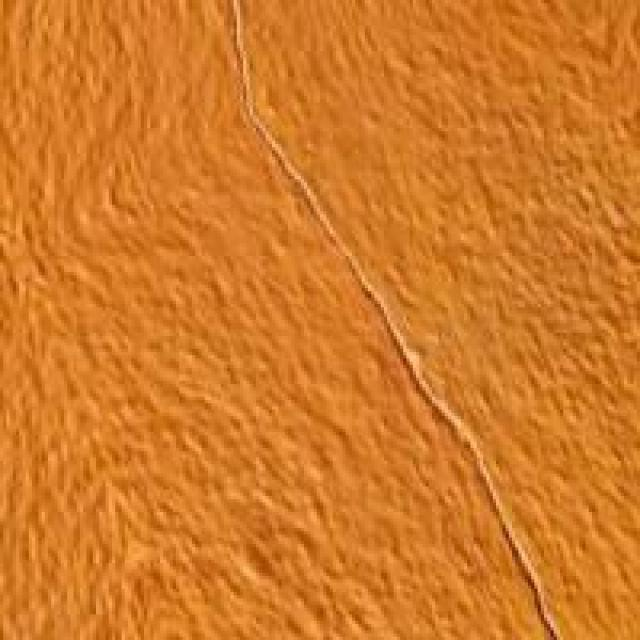crack: (397, 362, 598, 636)
